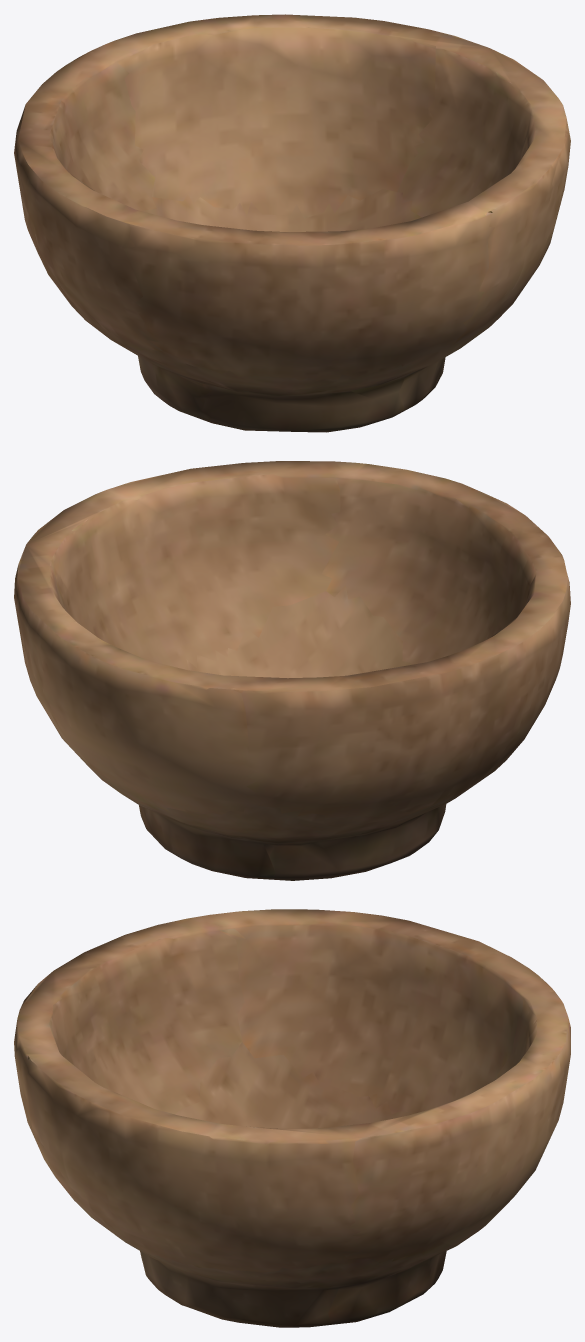
The model's file is old-sandstone-basin-v001.glb.
3 renders of one model, top to bottom at view 1: azimuth 30°, elevation 25°; view 2: azimuth 150°, elevation 25°; view 3: azimuth 270°, elevation 25°, orthographic.
Parts seen in each view (by area): view 1: old-sandstone-basin; view 2: old-sandstone-basin; view 3: old-sandstone-basin.
Boxes of the visible parts, box(x1,y1,x2,y2) form: old-sandstone-basin: box(14, 14, 570, 432); old-sandstone-basin: box(14, 461, 570, 880); old-sandstone-basin: box(14, 909, 570, 1327).
Bounding box in the file's own units: 0.6977 × 0.3391 × 0.6987.
1 material, 1 textured.
